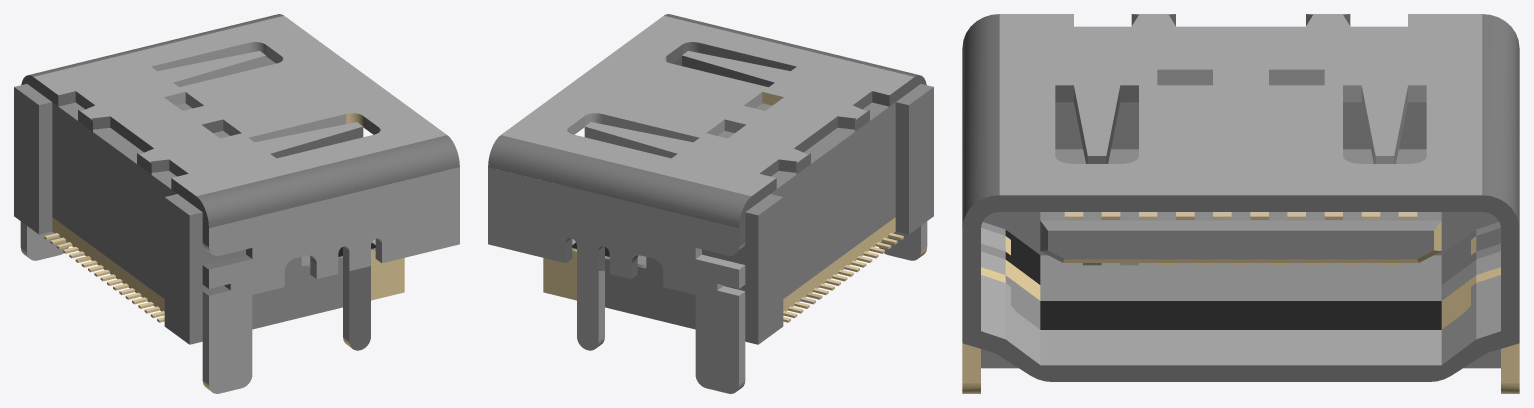
File: hdmi.glb
The picture shows the model from 3 angles, left to right: view 1: azimuth 30°, elevation 25°; view 2: azimuth 150°, elevation 25°; view 3: azimuth 270°, elevation 25°; orthographic projection. The views are drawn at different scales.
Bounding box in the file's own units: 12.15 × 8.39 × 15.
